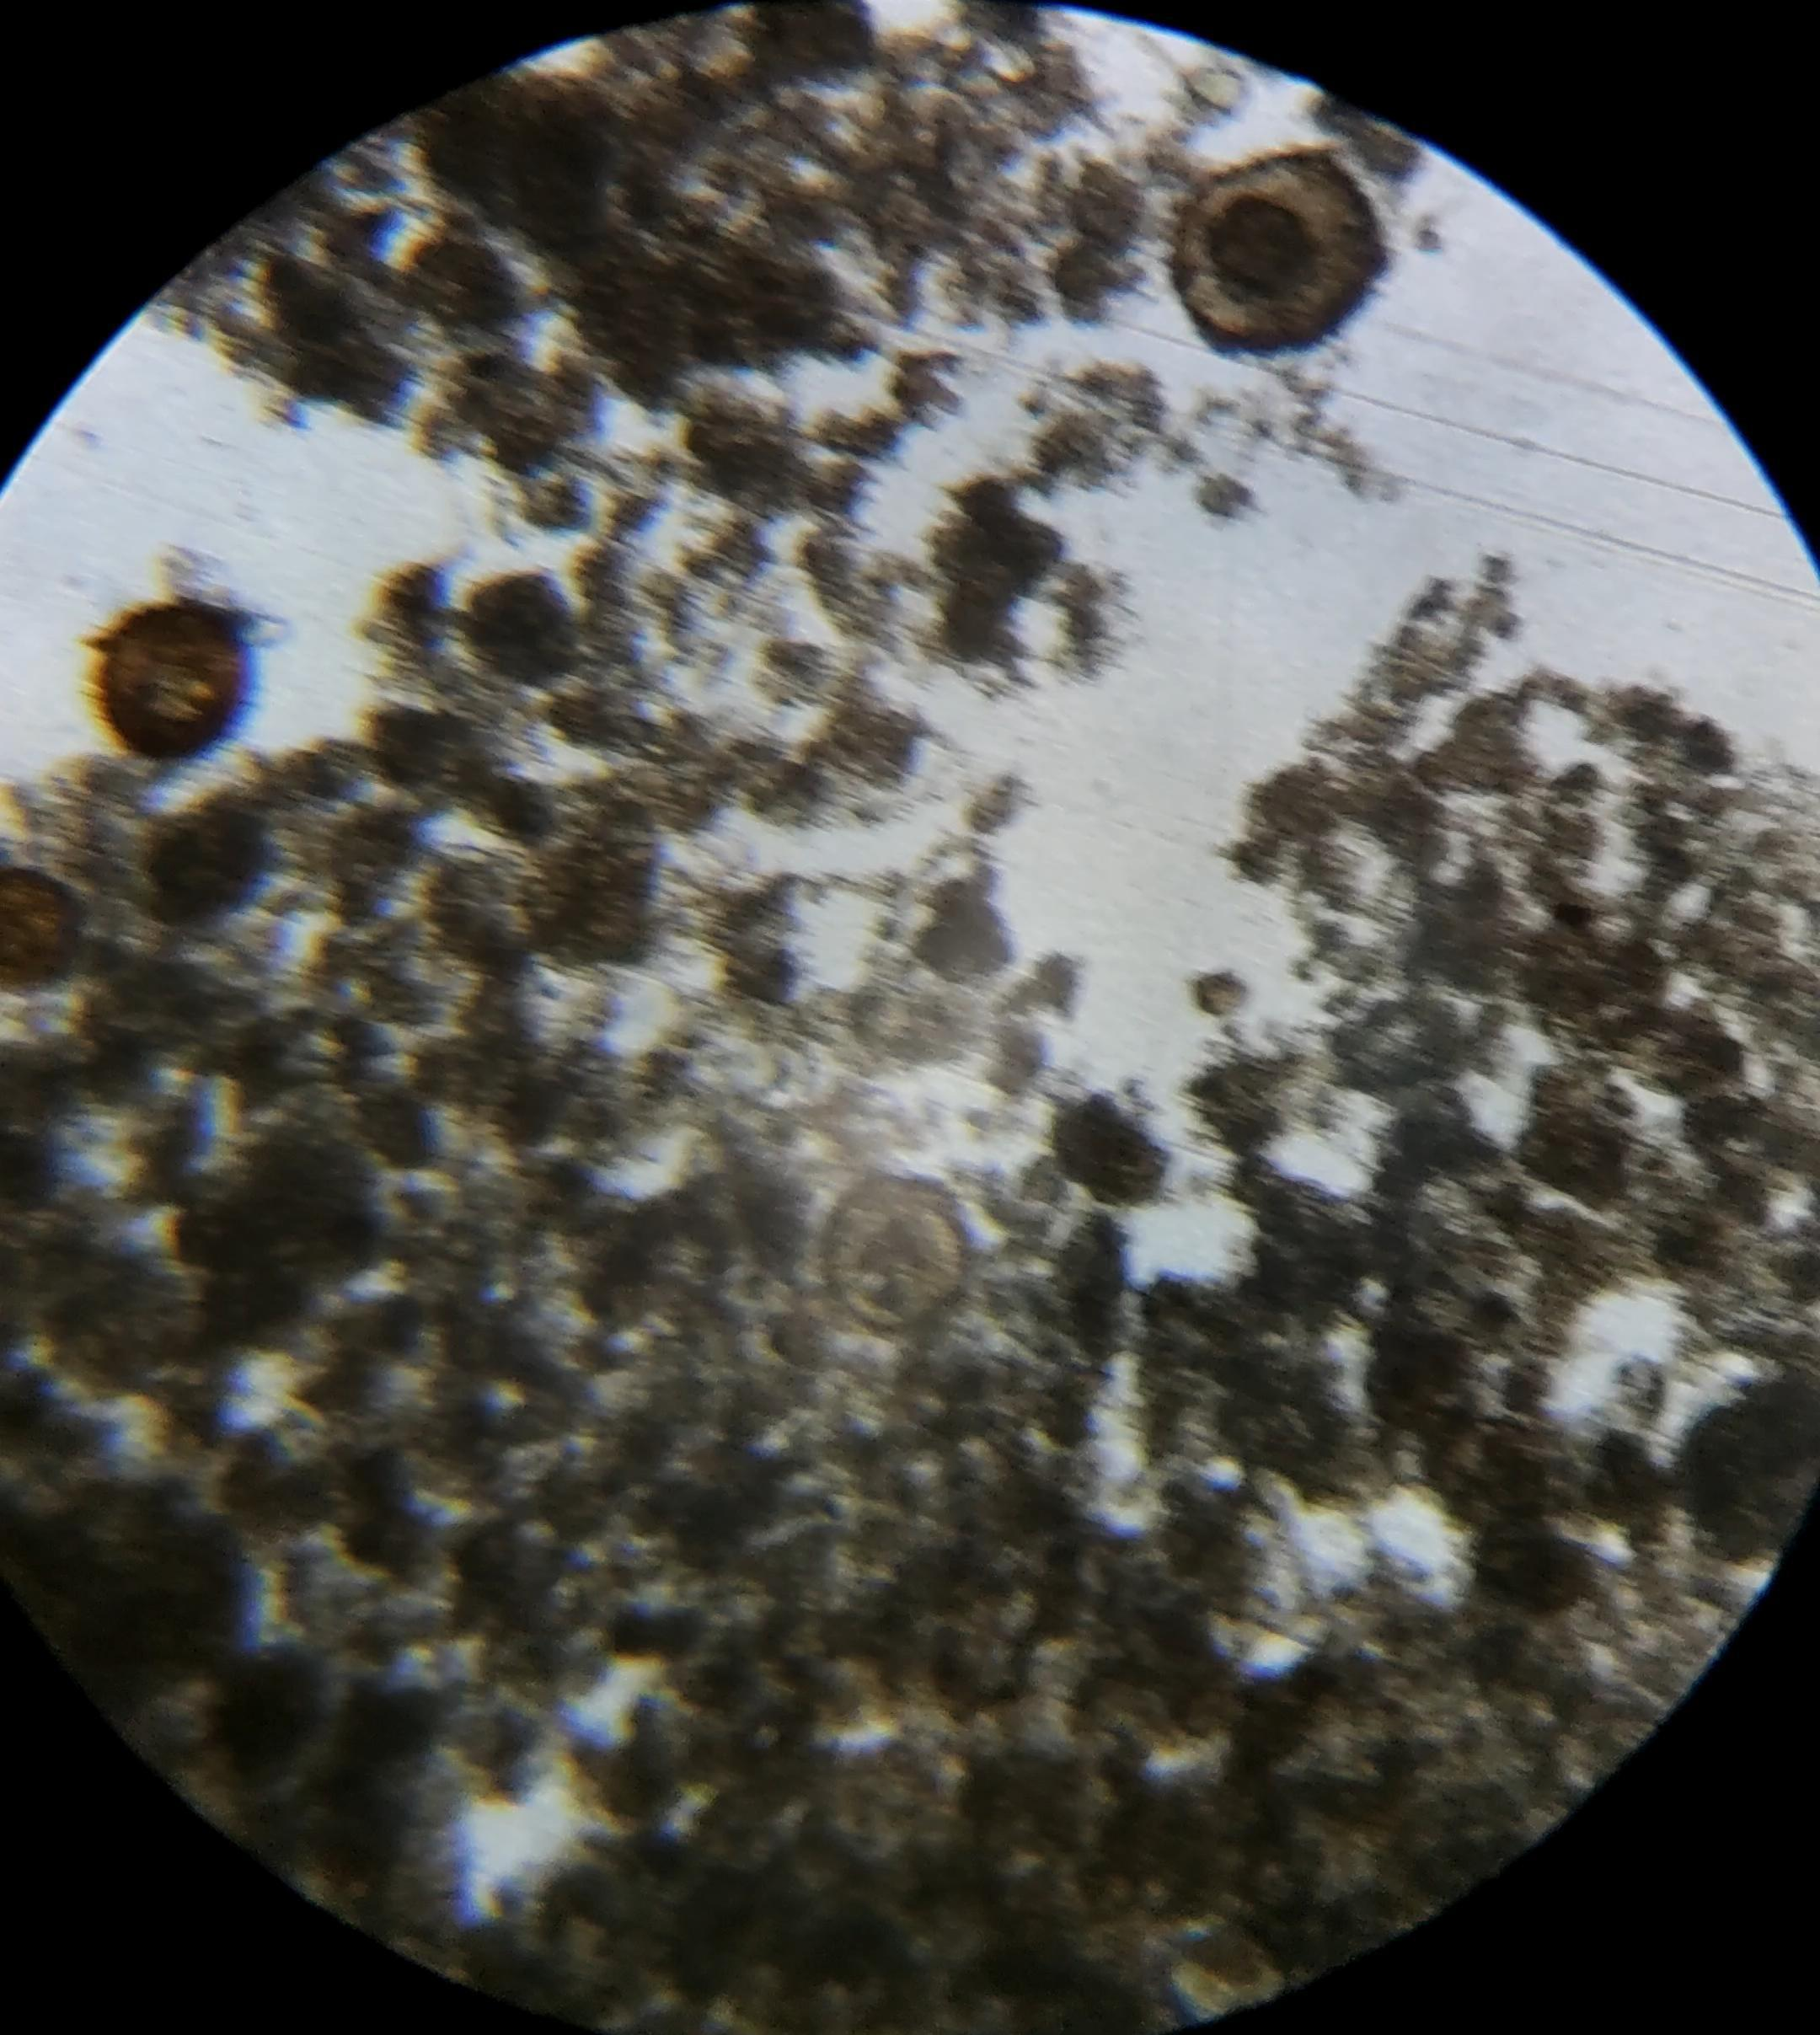Arcella: (1179, 153, 1372, 346), (105, 606, 246, 756), (827, 1181, 964, 1330), (0, 870, 76, 998)
